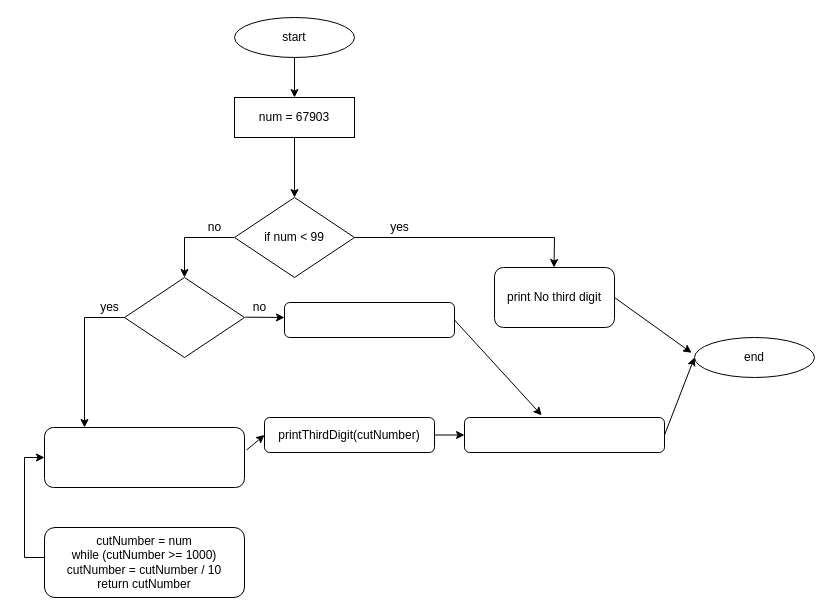
Some shapes in this 832 by 615 pixel diagram are drawn without their labels. Each missing label, with the centre of its shape:
"cutNumber = getCutNumber(num)" goes at pixel 144 457.
"if num >= 1000" goes at pixel 184 317.
"print thirdDigit" goes at pixel 564 434.
"printThirdDigit(num)" goes at pixel 369 320.
